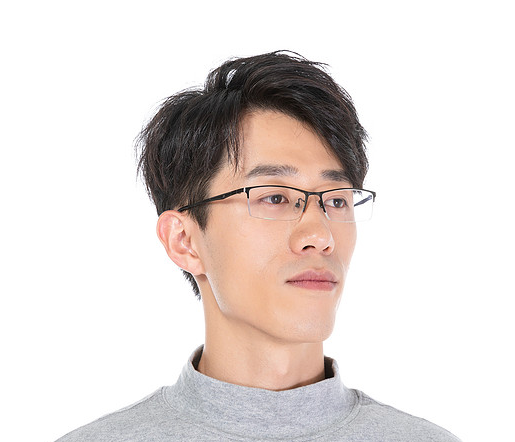glass: (155, 172, 392, 228)
mouth: (277, 258, 348, 301)
